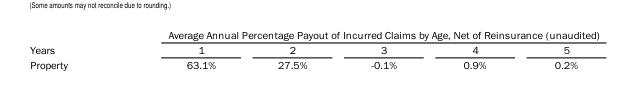table: (29, 28, 598, 70)
table column: (117, 28, 246, 70), (246, 28, 338, 70), (338, 28, 429, 70), (429, 28, 519, 70), (29, 28, 117, 70), (519, 28, 598, 70)
table column header: (29, 28, 598, 56)
table row: (29, 41, 598, 56), (29, 56, 598, 70), (29, 28, 598, 41)
table spanning cell: (117, 28, 598, 41), (29, 28, 117, 56)
